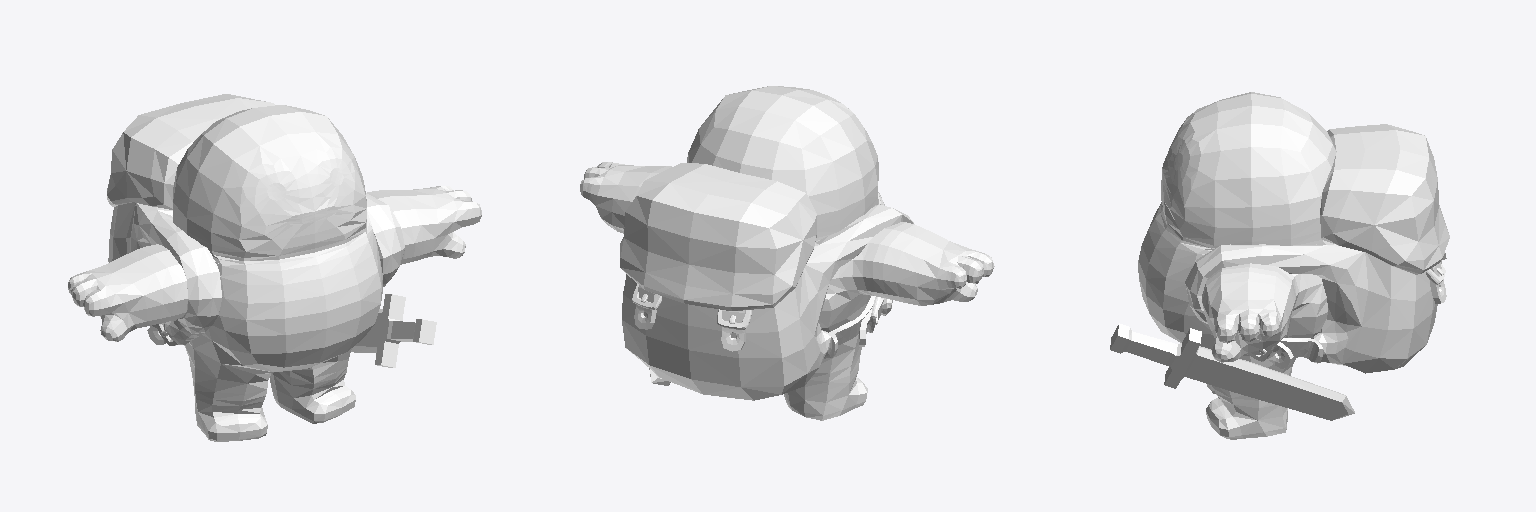
File: Hero.obj
The picture shows the model from 3 angles: view 1: azimuth 30°, elevation 25°; view 2: azimuth 150°, elevation 25°; view 3: azimuth 270°, elevation 25°; orthographic projection.
Visible parts, largest first — view 1: Cube9, Cube17, Cube19; view 2: Cube17, Cube9; view 3: Cube9, Cube17, Cube19.
Boxes of the visible parts, <box> form: Cube9: <box>68,105,481,441</box>; Cube17: <box>107,94,404,345</box>; Cube19: <box>351,294,436,367</box>; Cube17: <box>620,163,913,400</box>; Cube9: <box>580,86,994,420</box>; Cube9: <box>1138,92,1336,439</box>; Cube17: <box>1185,124,1449,373</box>; Cube19: <box>1110,323,1354,420</box>.
Bounding box in the file's own units: 3.83 × 2.78 × 2.85.